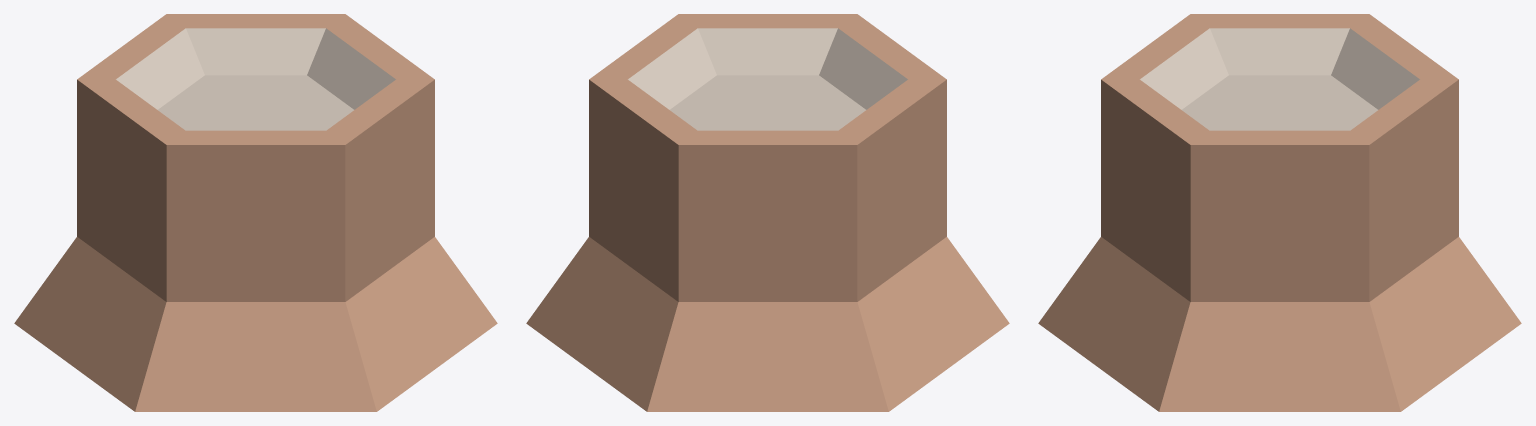
Rendered from stump_round.glb.
3 renders of one model, left to right at view 1: azimuth 30°, elevation 25°; view 2: azimuth 150°, elevation 25°; view 3: azimuth 270°, elevation 25°, orthographic.
Parts seen in each view (by area): view 1: stump_round; view 2: stump_round; view 3: stump_round.
Part boxes in pixels (x1,y1,x2,y2): stump_round: (14,14,497,411); stump_round: (526,14,1009,411); stump_round: (1038,14,1521,411).
Bounding box in the file's own units: 0.3213 × 0.2065 × 0.371.
